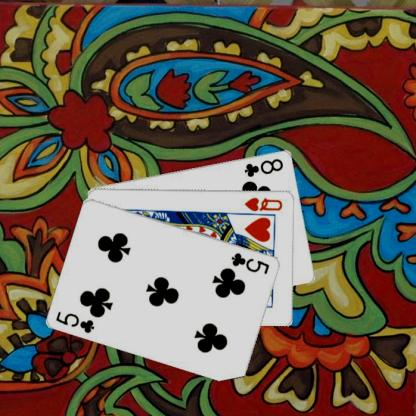5C: (229, 250, 271, 275), (54, 309, 96, 334)
8C: (242, 156, 285, 178)
QH: (243, 194, 284, 212)
